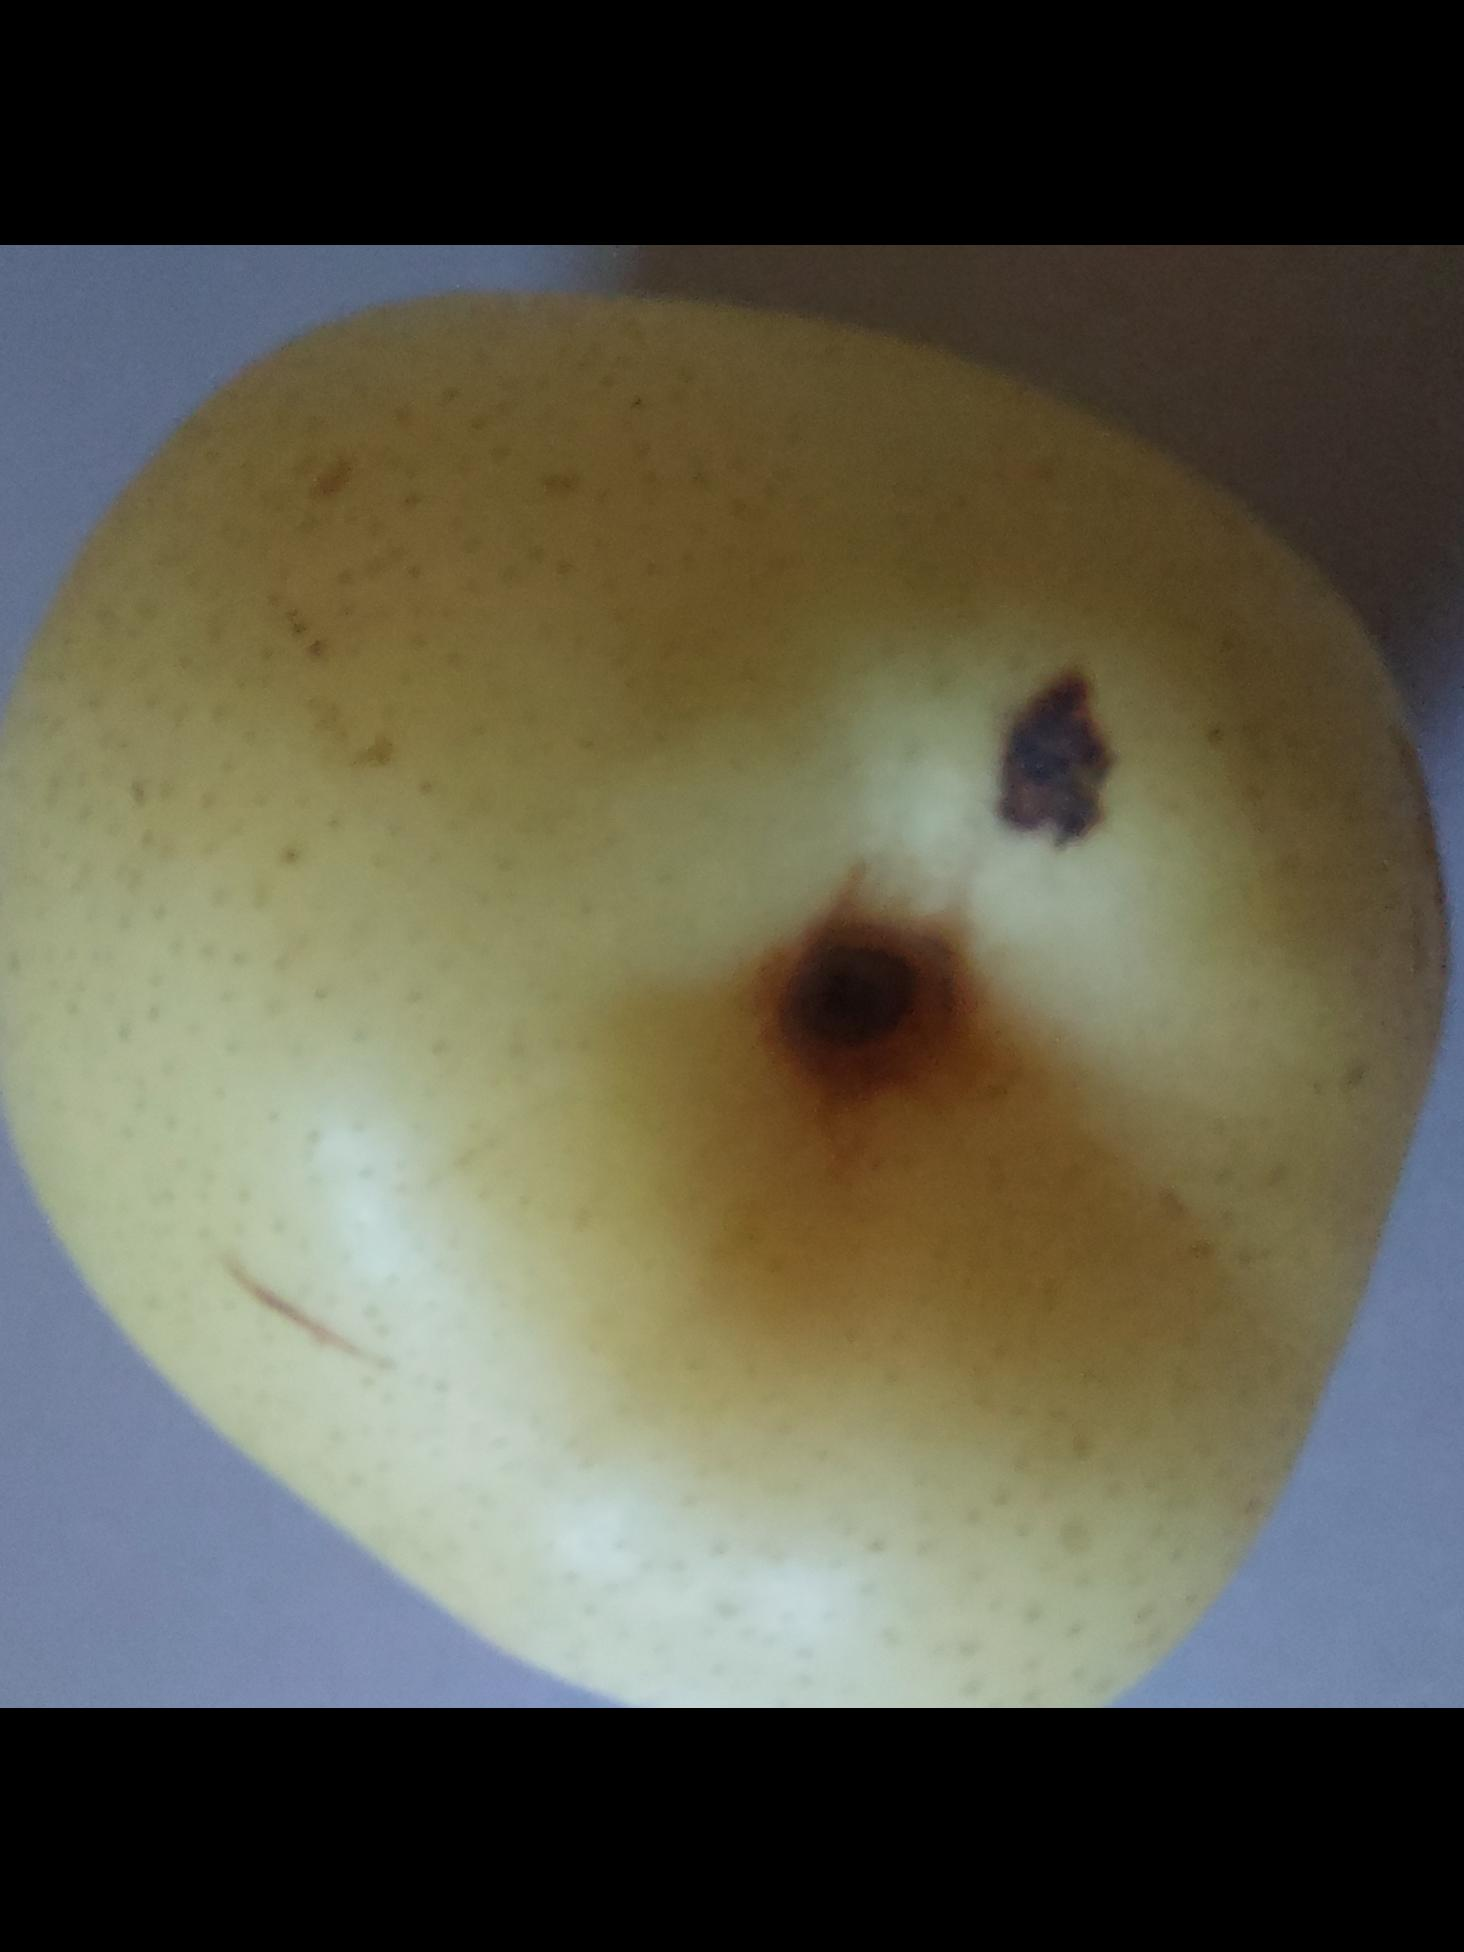Good Pear: (0, 264, 1464, 1708)
